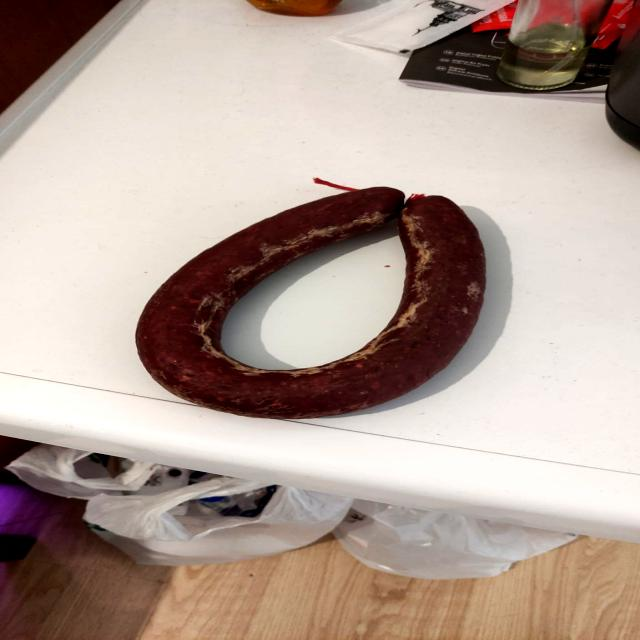sausage: (120, 178, 522, 426)
